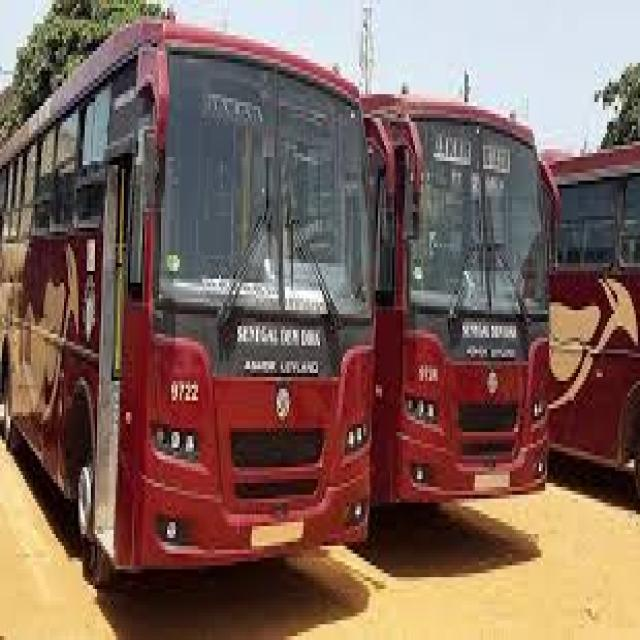bus dem dikk: (1, 20, 374, 579), (367, 96, 550, 501), (547, 145, 640, 495)
